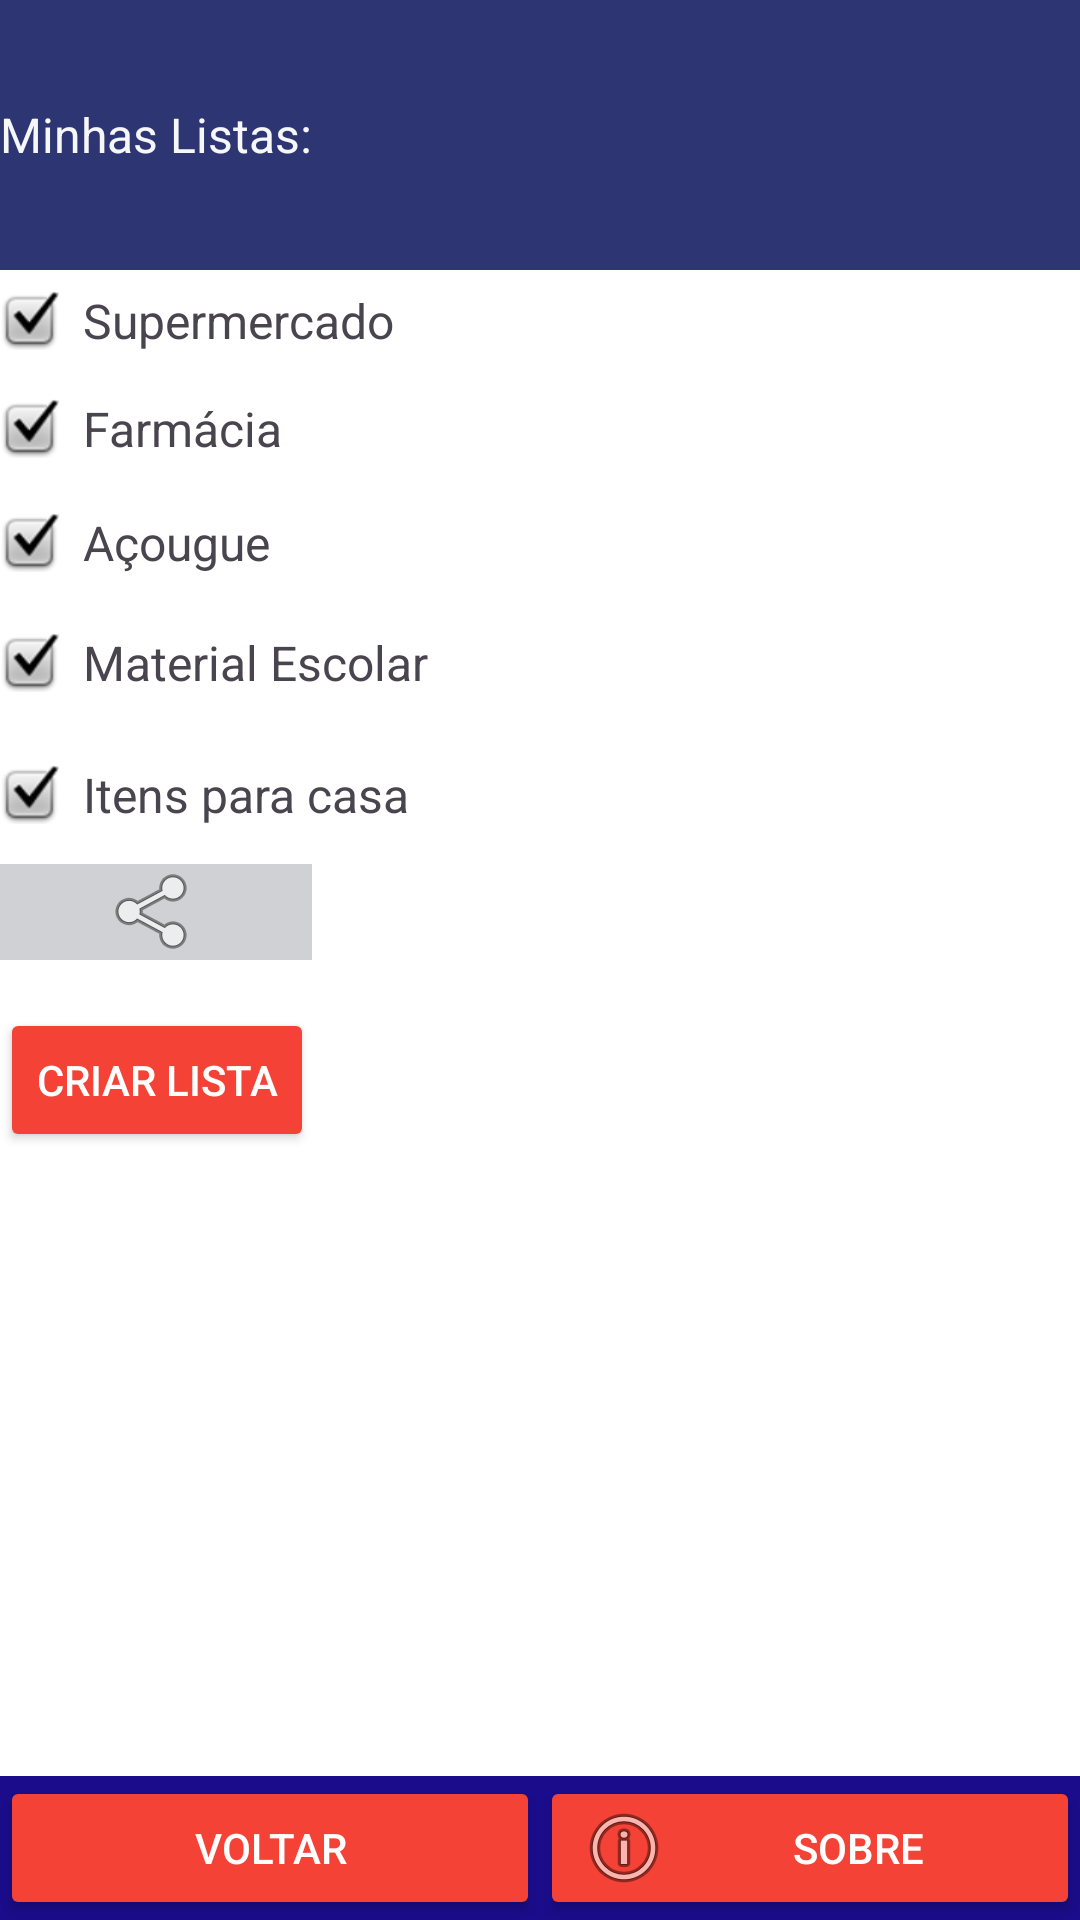

Locate icon controls on the screen. Image size 1080x1920, boxes as (x1,y1,x2,y2).
Compartilhar: (0,864,312,960)
